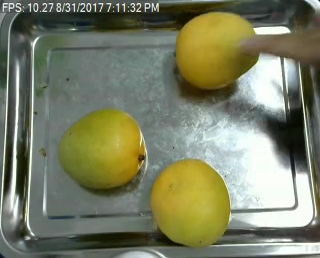Mango: (57, 108, 150, 193), (152, 156, 234, 247), (170, 10, 258, 84)
